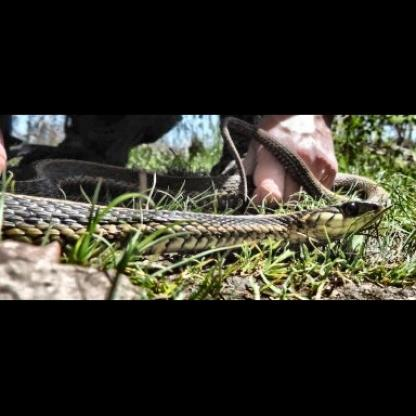Snake: (0, 158, 390, 262)
